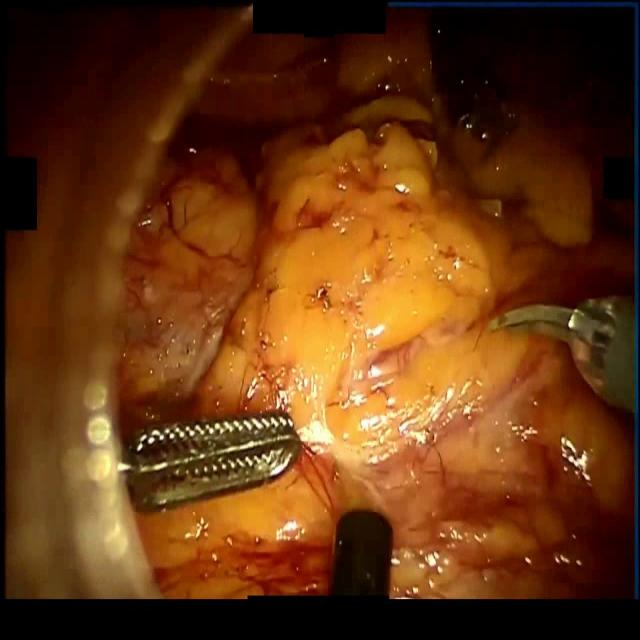surgical-area: (1, 2, 635, 600)
surgical-tool: (119, 412, 304, 516), (488, 292, 635, 412), (330, 508, 392, 600)
